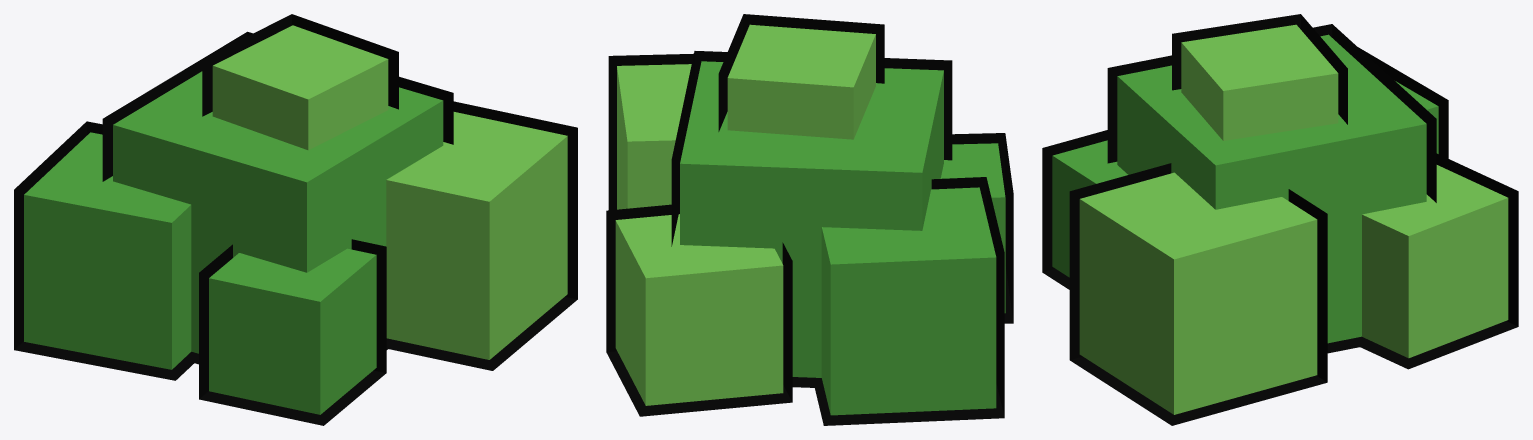
Rendered from Bush.fbx.
The picture shows the model from 3 angles, left to right: view 1: azimuth 30°, elevation 25°; view 2: azimuth 150°, elevation 25°; view 3: azimuth 270°, elevation 25°; orthographic projection. The views are drawn at different scales.
Parts seen in each view (by area): view 1: Bush_Leaves, Bush_LeavesLight, Bush_Outline; view 2: Bush_Leaves, Bush_LeavesLight, Bush_Outline; view 3: Bush_LeavesLight, Bush_Leaves, Bush_Outline.
Part boxes in pixels (bbox=[...]): Bush_Leaves: bbox=[24, 71, 443, 414]; Bush_LeavesLight: bbox=[212, 25, 567, 359]; Bush_Outline: bbox=[14, 14, 577, 425]; Bush_Leaves: bbox=[680, 61, 1005, 415]; Bush_LeavesLight: bbox=[615, 24, 875, 405]; Bush_Outline: bbox=[606, 14, 1013, 425]; Bush_LeavesLight: bbox=[1079, 24, 1508, 414]; Bush_Leaves: bbox=[1052, 34, 1438, 343]; Bush_Outline: bbox=[1042, 14, 1518, 425].
Size of the model in its own units: 8.79 by 4.74 by 7.77.
3 materials, 3 textured.
